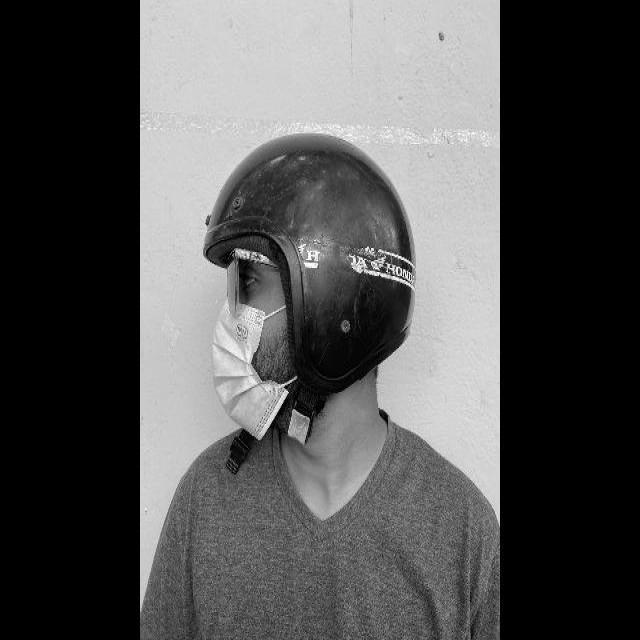5_casco: (202, 131, 418, 394)
